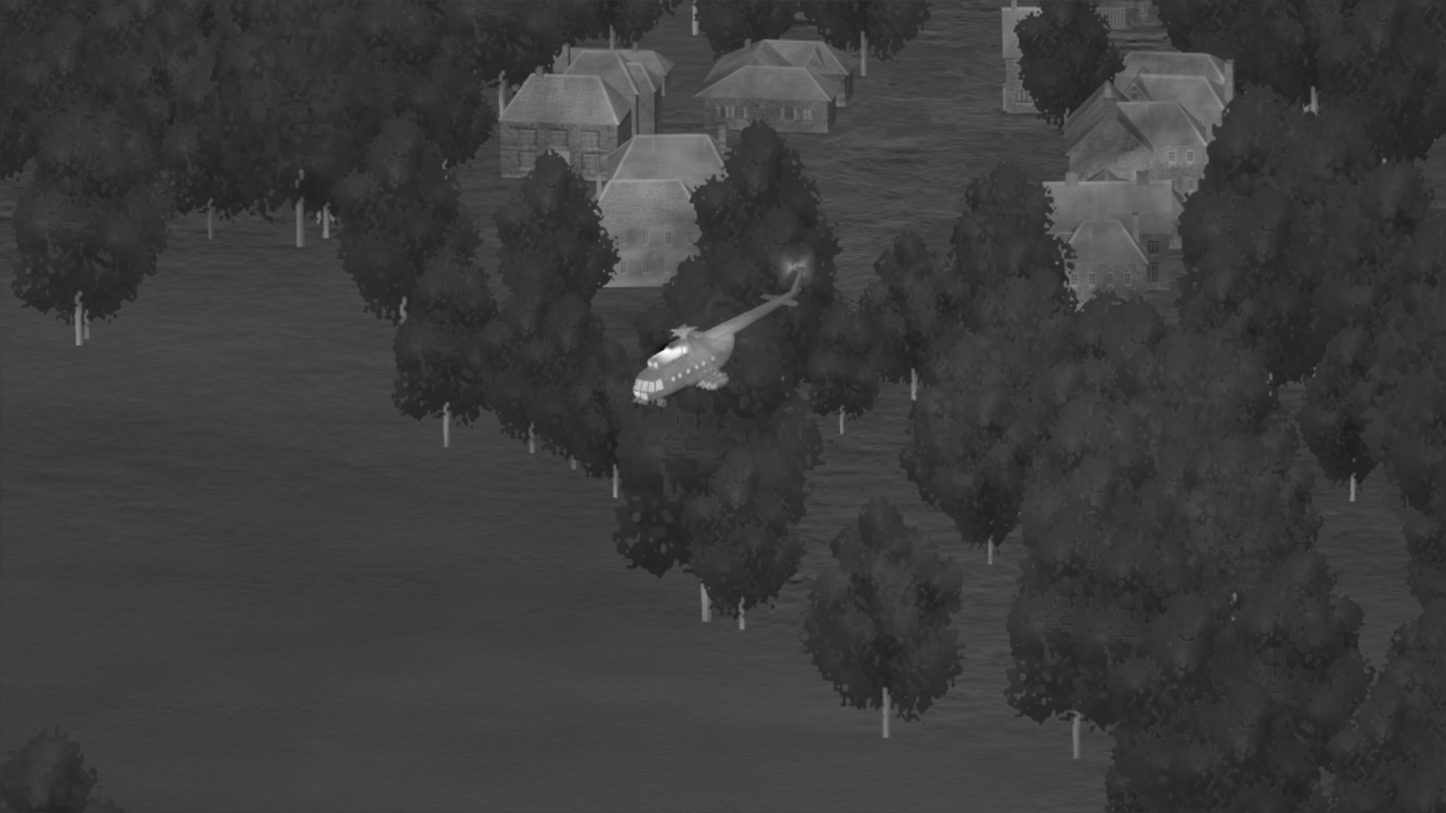mi8: (630, 263, 814, 407)
